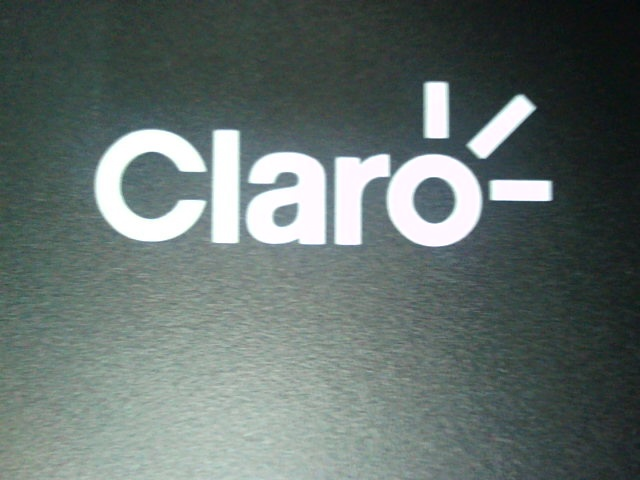BC_Claor: (82, 49, 557, 255)
